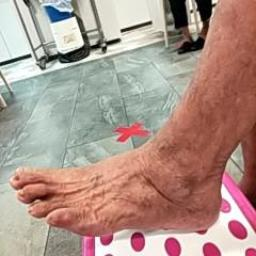Lateral View -Left Foot-: (1, 132, 239, 242)
